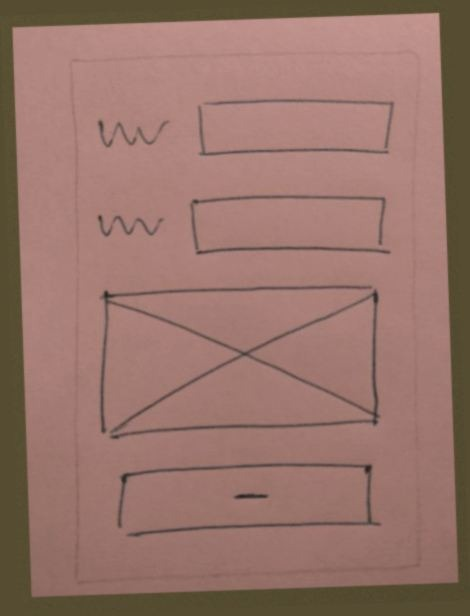button: (110, 455, 393, 541)
image: (90, 274, 387, 445)
text: (88, 106, 175, 157), (90, 201, 170, 253)
text_input: (189, 87, 404, 172), (181, 183, 396, 266)
